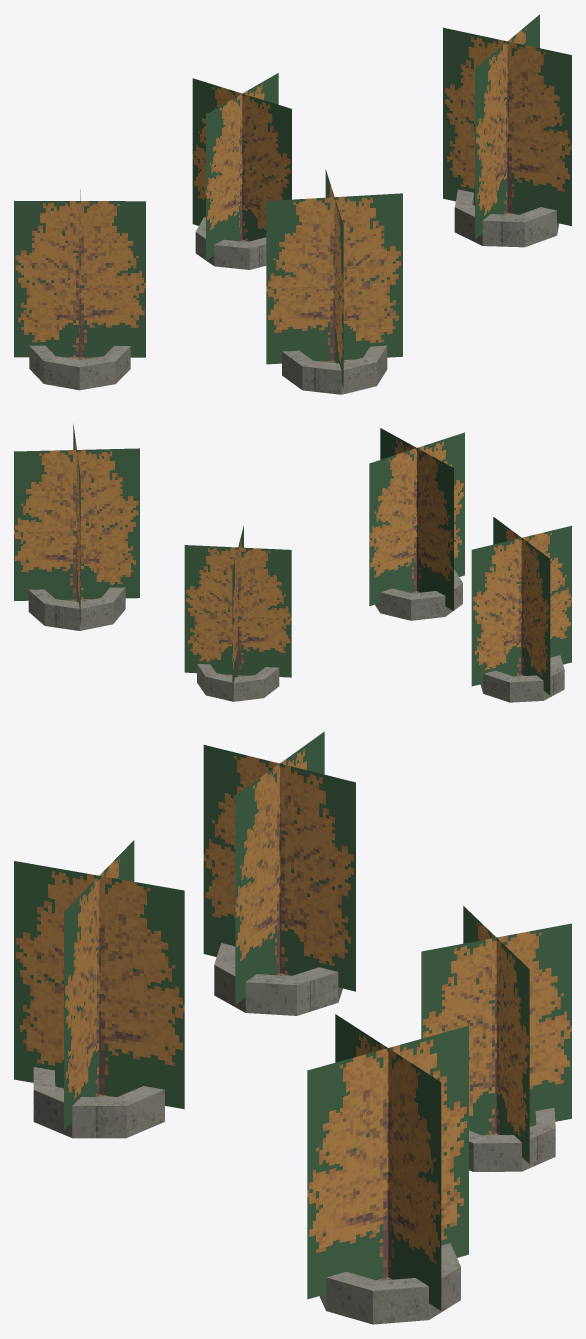
File: procgen-procpain-tree-park-large-x1zm3.obj
3 renders of one model, top to bottom at view 1: azimuth 30°, elevation 25°; view 2: azimuth 150°, elevation 25°; view 3: azimuth 270°, elevation 25°, orthographic. The views are drawn at different scales.
Size of the model in its own units: 24.96 by 7.69 by 15.82.
